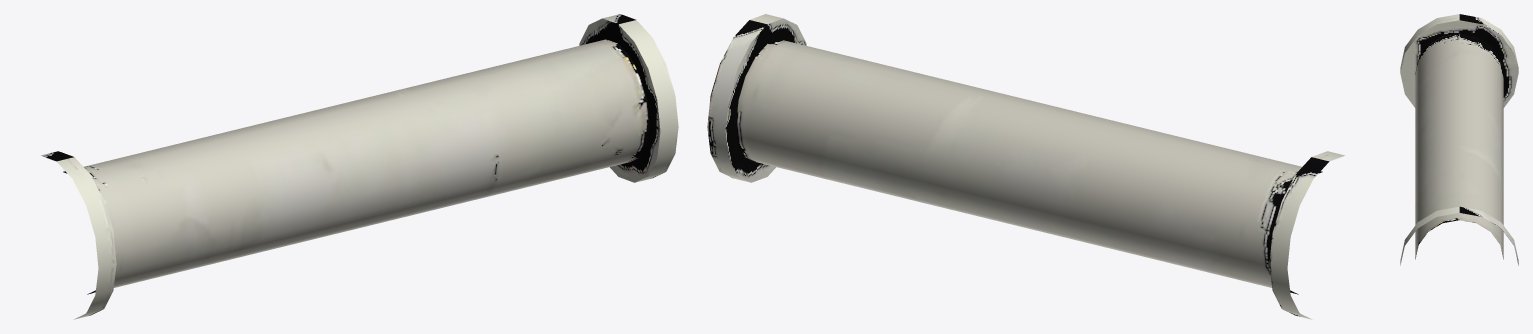
3 renders of one model, left to right at view 1: azimuth 30°, elevation 25°; view 2: azimuth 150°, elevation 25°; view 3: azimuth 270°, elevation 25°, orthographic. The views are drawn at different scales.
Parts seen in each view (by area): view 1: body0_model0_lod0_mesh0; view 2: body0_model0_lod0_mesh0; view 3: body0_model0_lod0_mesh0.
Boxes of the visible parts, x1,y1,x2,y2 form: body0_model0_lod0_mesh0: (41,14,678,319); body0_model0_lod0_mesh0: (707,14,1344,319); body0_model0_lod0_mesh0: (1400,14,1518,265).
Bounding box in the file's own units: 128 × 32.16 × 32.16.
Materials: 1 (1 with a texture image).
